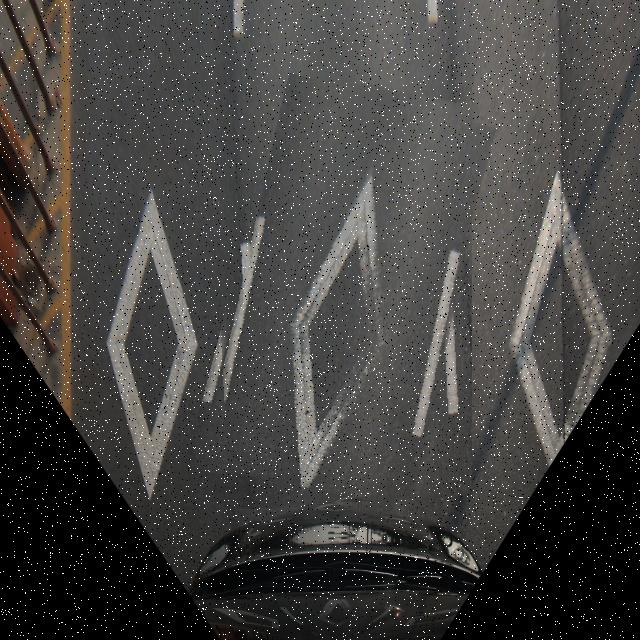diamond: (210, 84, 472, 510)
